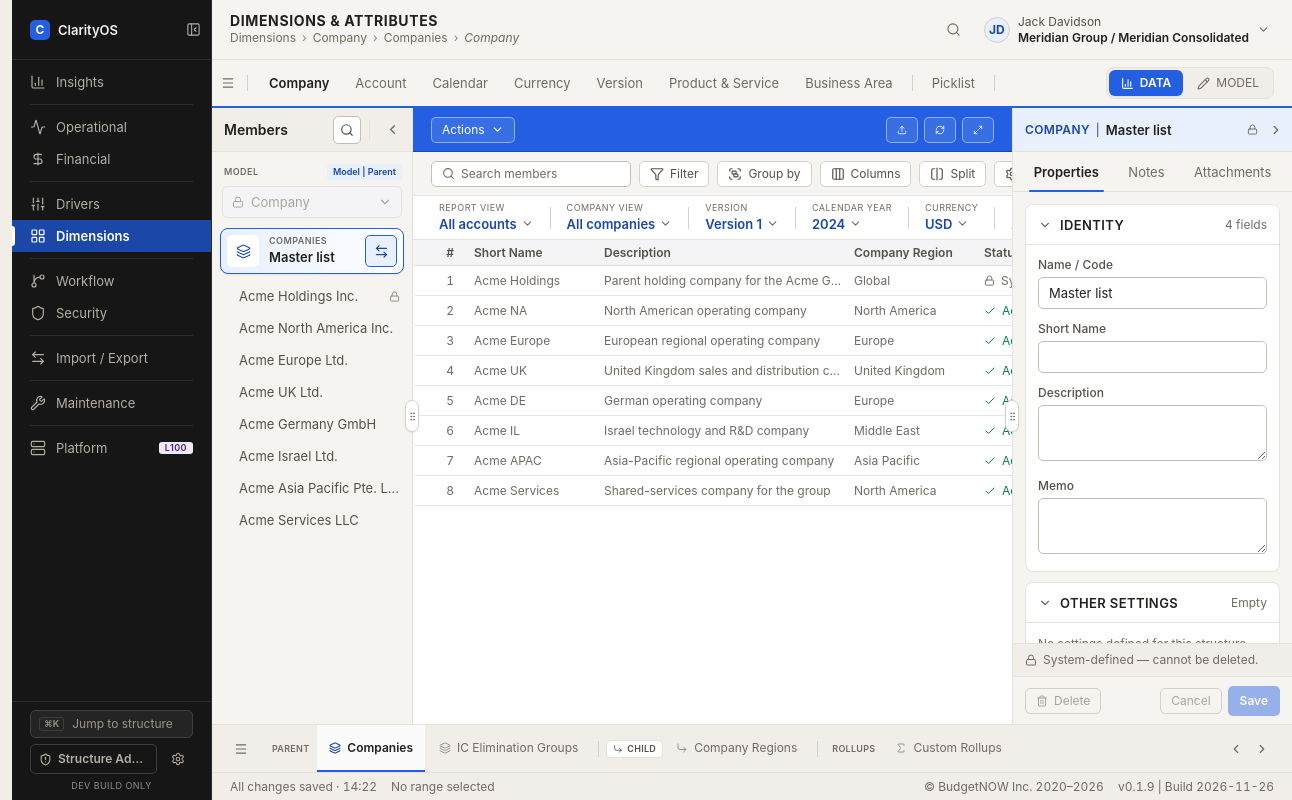
Test: rules in the app › a toolbar action shows only when its rule matches
The width and height of the screenshot is (1292, 800).
Click the button "MODEL". click: (1228, 83)
box: [1185,70,1271,96]
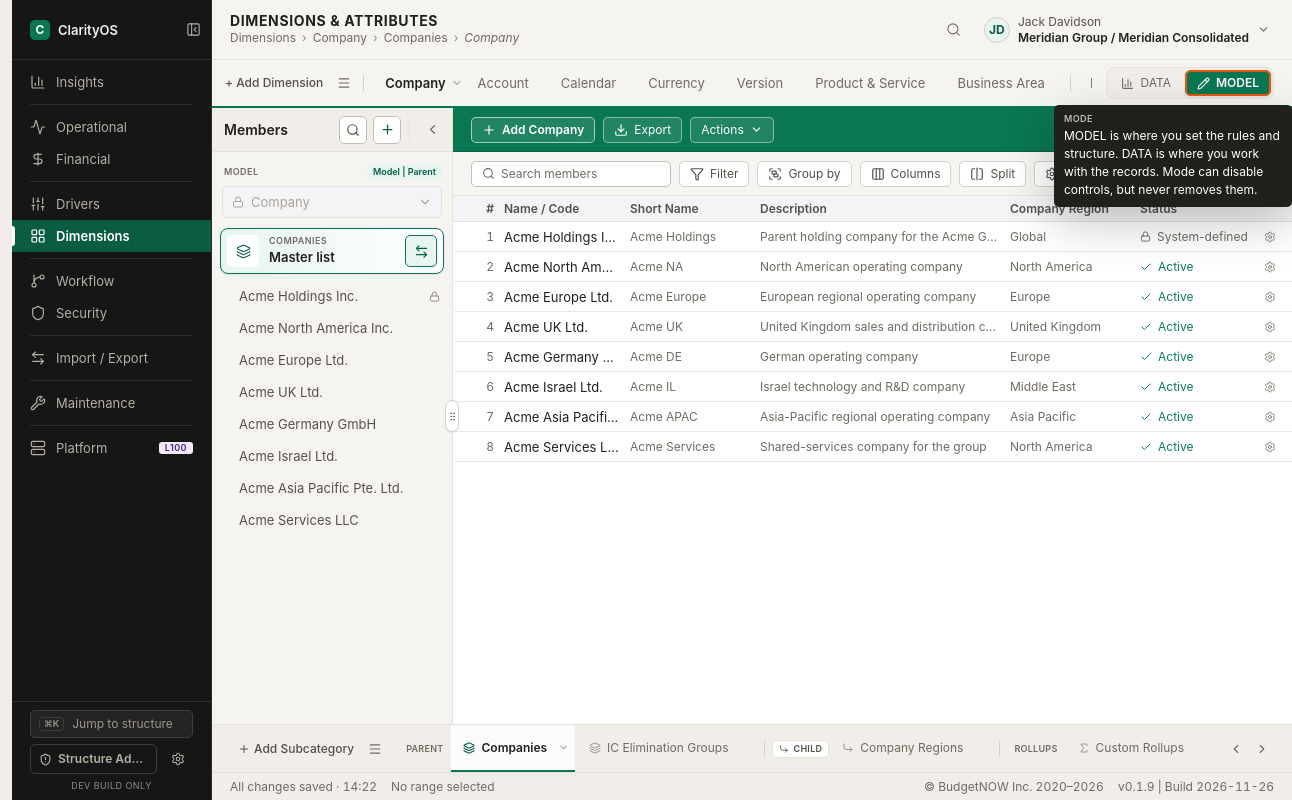
expect the button "Export" is shown: met, box [603,116,682,142]
